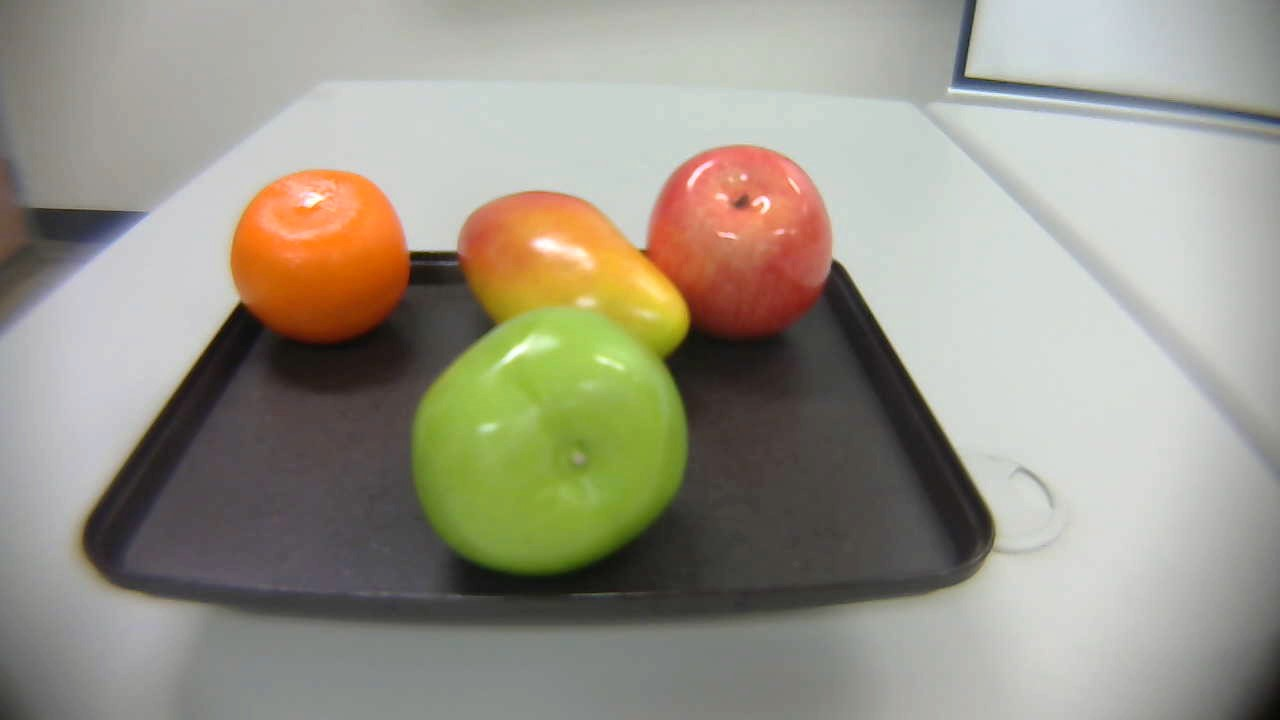green pear: (407, 306, 698, 576)
orange: (227, 173, 418, 348)
red apple: (628, 138, 843, 348)
red mango: (448, 186, 698, 371)
